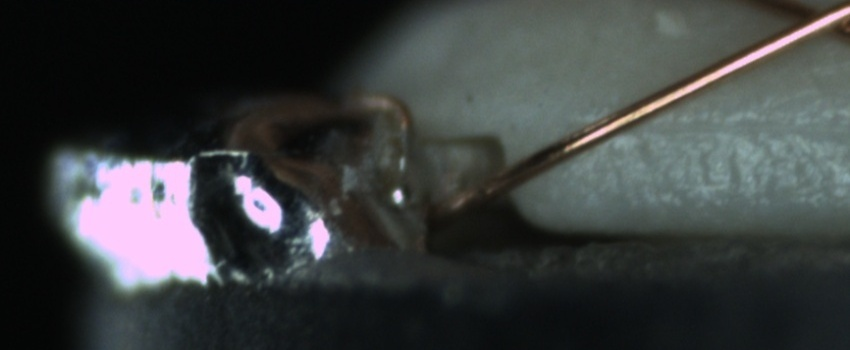CL: (768, 0, 849, 46)
DL: (624, 94, 849, 156)
TE: (344, 90, 414, 172)
